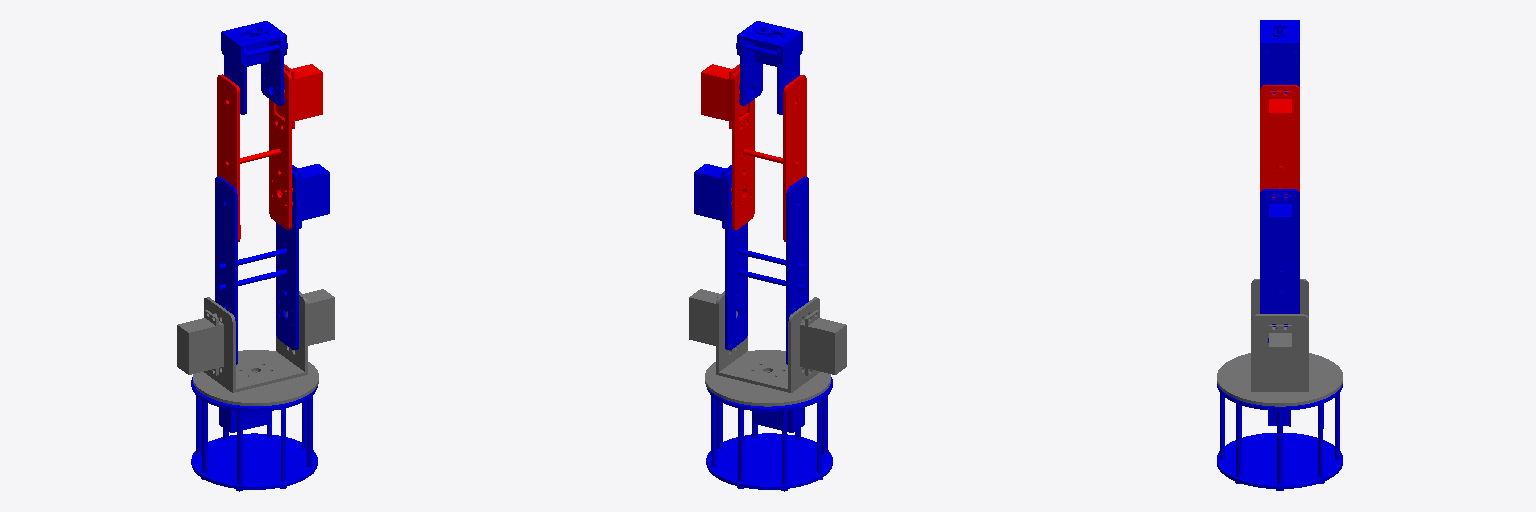
robot.urdf — My_Robot:
<?xml version="1.0"?>
<robot name="My_Robot">


    <material name="red">
        <color rgba="255 0 0 1"/>
    </material>

    <material name="blue">
        <color rgba="0 0 128 1"/>
    </material>

    <material name="green">
        <color rgba="0 128 0 1"/>
    </material>

    <material name="black">
        <color rgba="0 0 0 1"/>
    </material>

	<link name="world" />

        <link name="base_link">
        <visual>
            <origin xyz="0.0 0.0 0.0" rpy="1.57 0.0 0.0"/>
            <geometry>
                <mesh filename="package://lesson_urdf/meshes/visual/Ensamble1.stl" scale="0.1 0.1 0.1"/>
            </geometry>
            <material name="blue"/>
        </visual>
        </link>

        <joint name="Join" type="fixed">
            <parent link="world"/>
            <child link="base_link"/>
        </joint>

        <link name="link_1">
            <visual>
                <origin xyz="0.0 0.0 0.0" rpy="1.57 0.0 0.0"/>
                <geometry>
                    <mesh filename="package://lesson_urdf/meshes/visual/Ensamblaje2.stl" scale="0.1 0.1 0.1"/>
                </geometry>
                <material name="red">
                    <color rgba="0.5 0.5 0.5 1.0"/>
                </material>
            </visual>
        </link>

        <joint name="joint_1" type="revolute">
            <origin xyz="0.0 0.0 0.75" rpy="0.0 0.0 0.0"/>
            <parent link="base_link"/>
            <child link="link_1"/>
            <axis xyz="0.0 0.0 1.0"/>
            <limit lower="-1.57" upper="1.57" effort="5.0" velocity="5.0"/>
        </joint>

        <link name="link_2">
            <visual>
                <origin xyz="0.0 0.0 0.0" rpy="1.57 0.0 0.0"/>
                <geometry>
                    <mesh filename="package://lesson_urdf/meshes/visual/Ensamblaje3.stl" scale="0.1 0.1 0.1"/>
                </geometry>
                <material name="blue"/>
            </visual>
        </link>

        <joint name="joint_2" type="revolute">
            <origin xyz="0.0 0.0 0.55" rpy="0.0 0.0 1.57"/>
            <parent link="link_1"/>
            <child link="link_2"/>
            <axis xyz="0.0 1.0 0.0"/>
            <limit lower="-1.57" upper="1.57" effort="5.0" velocity="5.0"/>
        </joint>

        <link name="link_3">
            <visual>
                <origin xyz="0.0 0.0 0.0" rpy="1.57 0.0 0.0"/>
                <geometry>
                    <mesh filename="package://lesson_urdf/meshes/visual/Ensamblaje4.stl" scale="0.1 0.1 0.1"/>
                </geometry>
                <material name="red"/>
            </visual>
        </link>

        <joint name="joint_3" type="revolute">
            <origin xyz="0.0 0.0 1.2" rpy="0.0 0.0 0.0"/>
            <parent link="link_2"/>
            <child link="link_3"/>
            <axis xyz="0.0 1.0 0.0"/>
            <limit lower="-1.57" upper="1.57" effort="5.0" velocity="5.0"/>
        </joint>

        <link name="link_4">
            <visual>
                <origin xyz="0.0 0.0 0.0" rpy="1.57 0.0 0.0"/>
                <geometry>
                    <mesh filename="package://lesson_urdf/meshes/visual/Ensamblaje5.stl" scale="0.1 0.1 0.1"/>
                </geometry>
                <material name="blue"/>
            </visual>
        </link>

        <joint name="joint_4" type="revolute">
            <origin xyz="0.0 0.0 1.0" rpy="0.0 0.0 0.0"/>
            <parent link="link_3"/>
            <child link="link_4"/>
            <axis xyz="0.0 1.0 0.0"/>
            <limit lower="-1.57" upper="1.57" effort="5.0" velocity="5.0"/>
        </joint>

        <link name="Gripper">
            <visual>
                <origin xyz="0.0 0.0 0.0" rpy="1.57 0.0 0.0"/>
                <geometry>
                    <mesh filename="package://lesson_urdf/meshes/visual/Gripper.stl" scale="0.1 0.1 0.1"/>
                </geometry>
                <material name="red"/>
            </visual>
        </link>

        <joint name="joint_Gripper" type="revolute">
            <origin xyz="0.0 0.0 0.7" rpy="0.0 0.0 1.57"/>
            <parent link="link_4"/>
            <child link="Gripper"/>
            <axis xyz="0.0 0.0 1.0"/>
            <limit lower="-1.57" upper="1.57" effort="5.0" velocity="5.0"/>
        </joint>
    
</robot>

--- What the picture shows (computed from the rendered views, not written in the file) ---
The picture shows the robot from 3 angles, left to right: view 1: azimuth 30°, elevation 25°; view 2: azimuth 150°, elevation 25°; view 3: azimuth 270°, elevation 25°; orthographic projection.
Model My_Robot with 7 links and 6 joints (5 revolute, 1 fixed), rooted at world, posed every joint at zero.
Visible links, largest first — view 1: link_1, base_link, link_2, link_3, link_4; view 2: link_1, base_link, link_2, link_3, link_4; view 3: link_1, base_link, link_2, link_3, link_4.
Link boxes in pixels (x1,y1,x2,y2): link_1: [177, 289, 334, 405]; base_link: [191, 377, 317, 491]; link_2: [215, 164, 329, 364]; link_3: [217, 64, 322, 241]; link_4: [221, 21, 287, 114]; link_1: [689, 289, 846, 406]; base_link: [706, 377, 832, 491]; link_2: [694, 164, 808, 364]; link_3: [701, 64, 806, 241]; link_4: [736, 21, 802, 114]; link_1: [1217, 279, 1342, 406]; base_link: [1217, 384, 1342, 490]; link_2: [1260, 189, 1299, 342]; link_3: [1260, 85, 1299, 197]; link_4: [1260, 20, 1299, 93].
Size in the robot's own frame: 1.47 by 1.1 by 4.21 metres.
5 mesh visuals loaded from 6 distinct referenced files (5 binary STL); not drawn: 1 (reference not matched to a file when rendering).